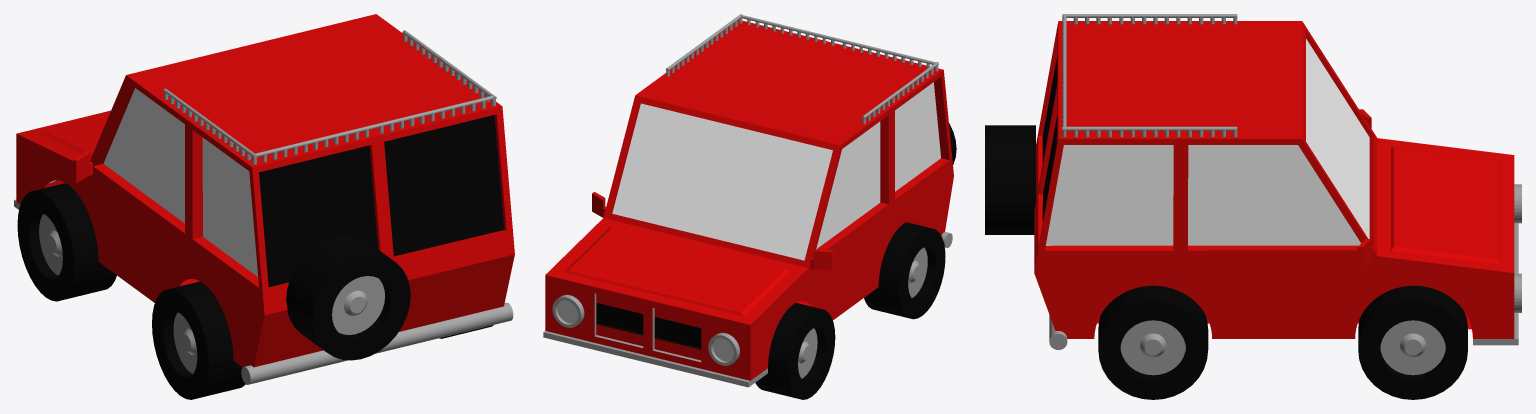
The model's file is Red Car.dae.
3 renders of one model, left to right at view 1: azimuth 30°, elevation 25°; view 2: azimuth 150°, elevation 25°; view 3: azimuth 270°, elevation 25°, orthographic. The views are drawn at different scales.
Parts seen in each view (by area): view 1: RedCar, Cylinder-004, Cylinder-001, Cylinder-003, Cube-001; view 2: RedCar, Cylinder-001, Cylinder-003, Cylinder-002; view 3: RedCar, Cylinder-001, Cylinder-003, Cylinder-004, Cylinder-002.
Part boxes in pixels (x1,y1,x2,y2): RedCar: (14,14,514,367); Cylinder-004: (286,235,410,360); Cylinder-001: (152,281,493,399); Cylinder-003: (17,183,116,301); Cube-001: (241,302,513,384); RedCar: (543,14,953,387); Cylinder-001: (864,222,945,319); Cylinder-003: (755,303,835,399); Cylinder-002: (552,294,739,365); RedCar: (1034,14,1518,345); Cylinder-001: (1098,285,1208,399); Cylinder-003: (1358,285,1467,399); Cylinder-004: (985,125,1035,234); Cylinder-002: (1514,184,1521,312).
Bounding box in the file's own units: 1.45 × 1.26 × 2.36.
